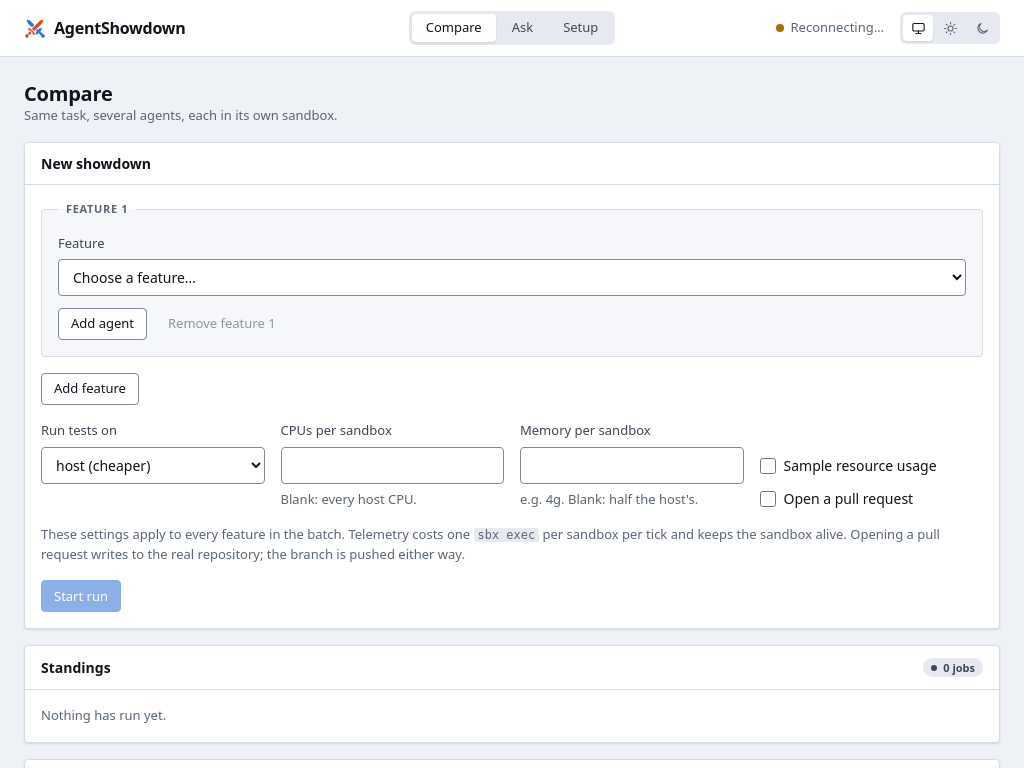
Test case: App sections › switches to the ask view
Click the tab "Ask" at {"x": 522, "y": 28}, box [498, 14, 547, 42]
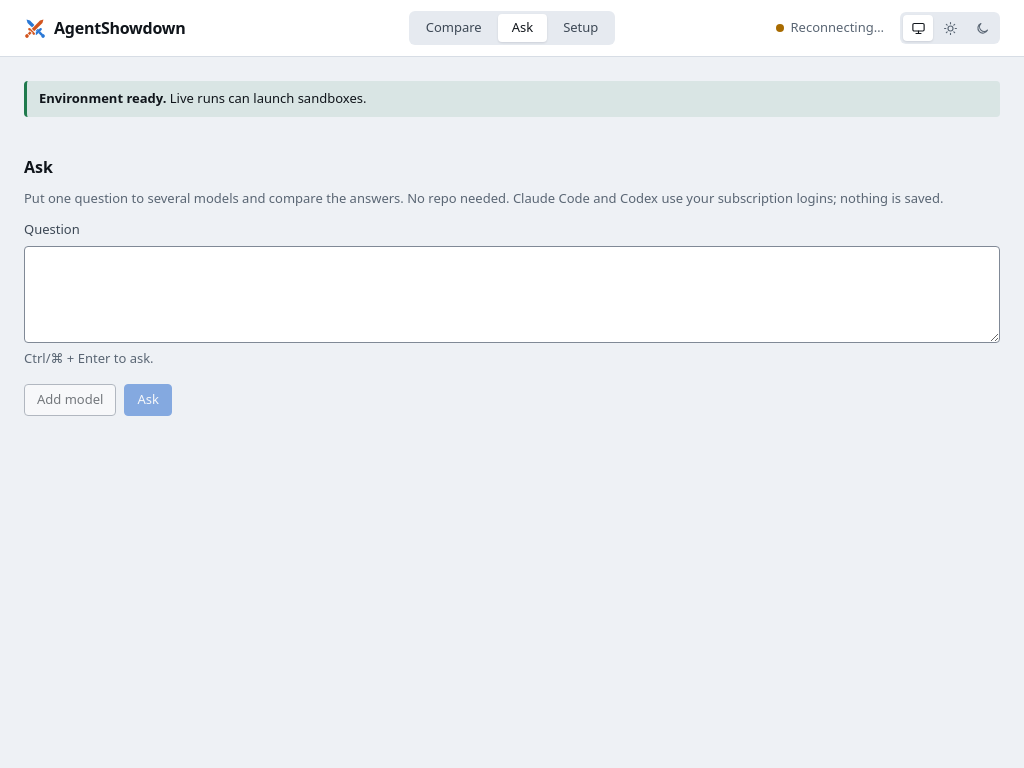
Result: the heading "Ask" is shown at [24, 156, 53, 178]
Result: the text box labelled "Question" is shown at [24, 246, 1000, 343]
